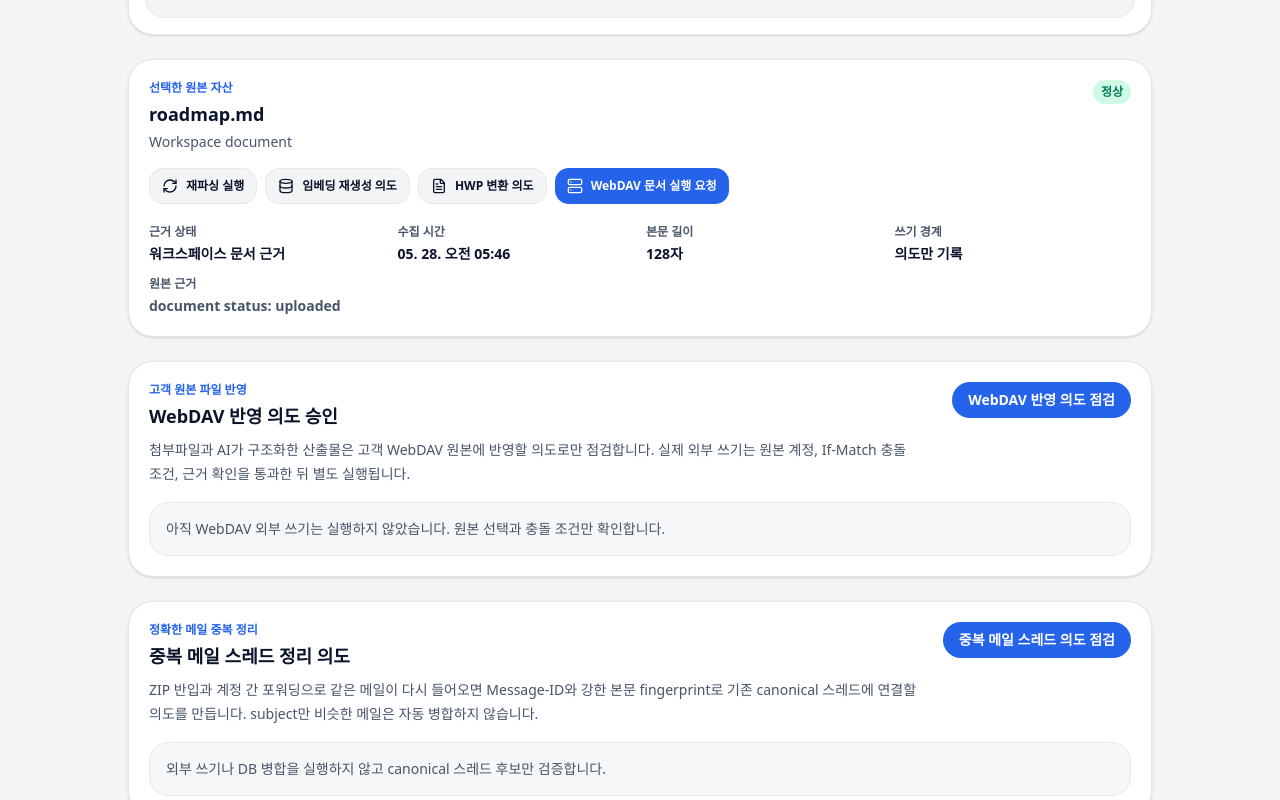
Test: DataPage › creates a signed customer-owned WebDAV writeback intent
(page scrolled)
Click the button "WebDAV 반영 의도 점검" at (1042, 400), box left=952, top=382, right=1131, bottom=418
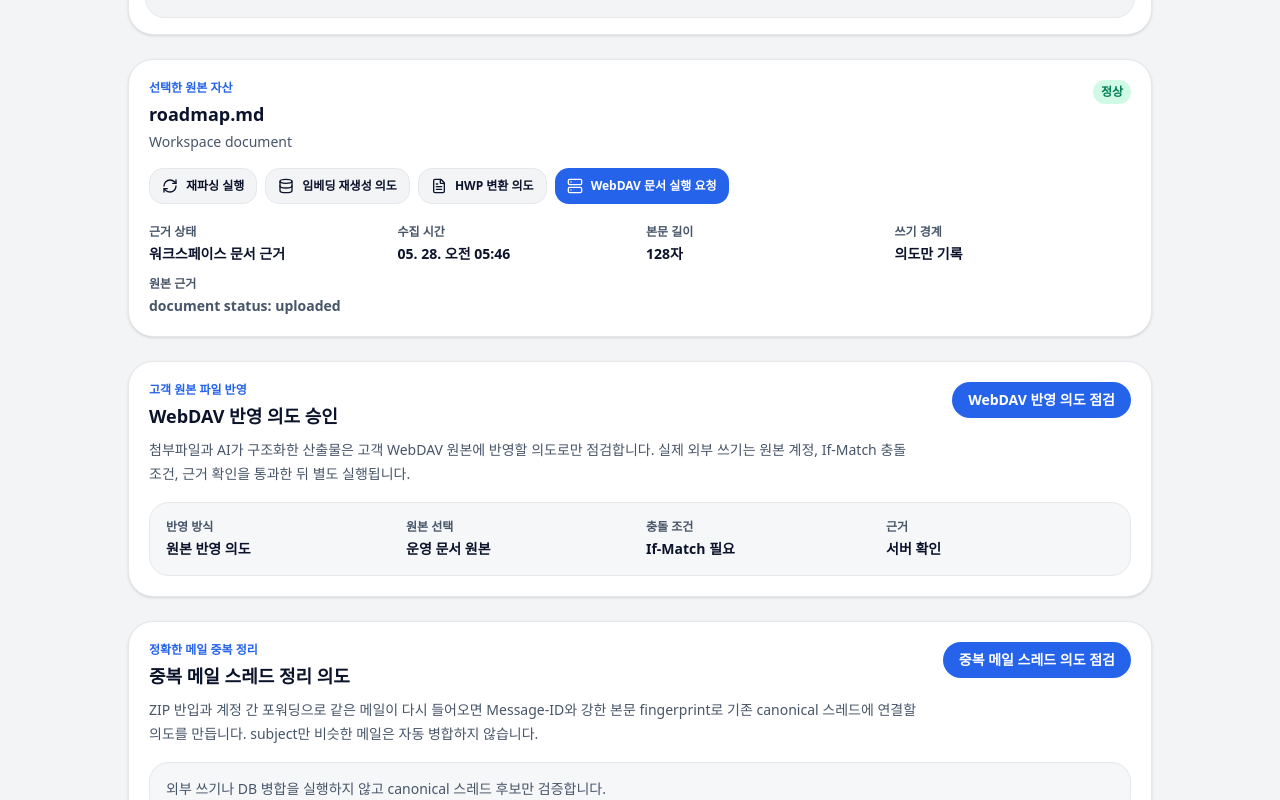
expect the text "운영 문서 원본" is shown: met, box left=406, top=539, right=491, bottom=558
expect the text "서버 확인" is shown: met, box left=886, top=539, right=941, bottom=558
expect the text "If-Match 필요" is shown: met, box left=646, top=539, right=735, bottom=558
